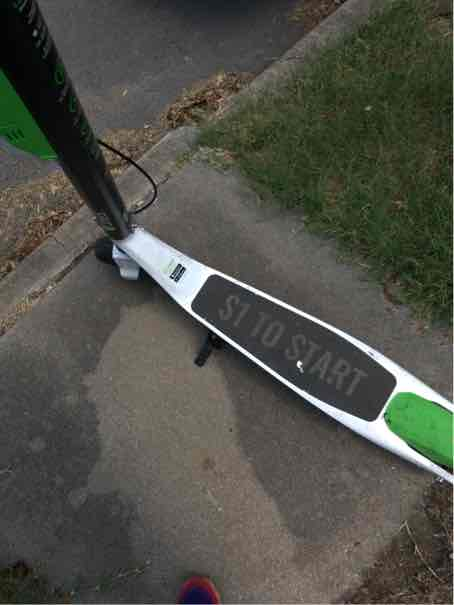scooter: (4, 15, 443, 545)
